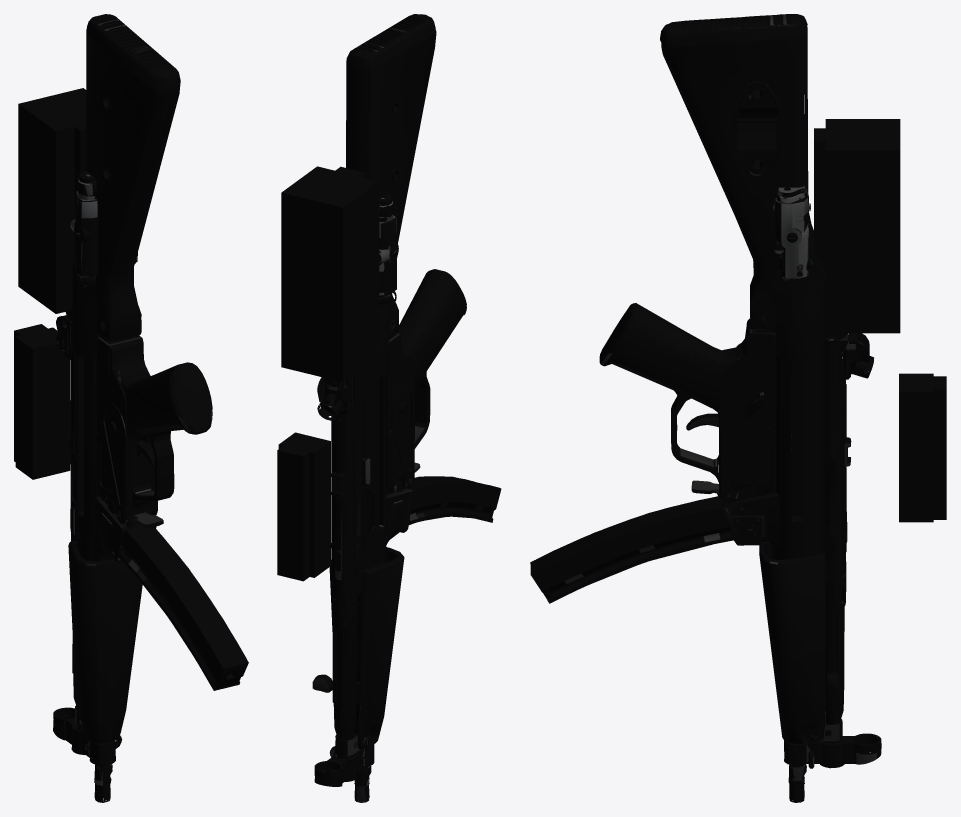
The model's file is MP5A3__Handguard_MP5_Rail__Laser_Rifle__Mount_HK_Claw.fbx.
The picture shows the model from 3 angles, left to right: view 1: azimuth 30°, elevation 25°; view 2: azimuth 150°, elevation 25°; view 3: azimuth 270°, elevation 25°; orthographic projection. The views are drawn at different scales.
Visible parts, largest first — view 1: asset_MP5A3.001; view 2: asset_MP5A3.001; view 3: asset_MP5A3.001.
Part boxes in pixels (x1,y1,x2,y2): asset_MP5A3.001: (14,14,248,802); asset_MP5A3.001: (277,14,501,802); asset_MP5A3.001: (530,14,946,802).
Bounding box in the file's own units: 0.0324 × 0.36 × 0.1734.
